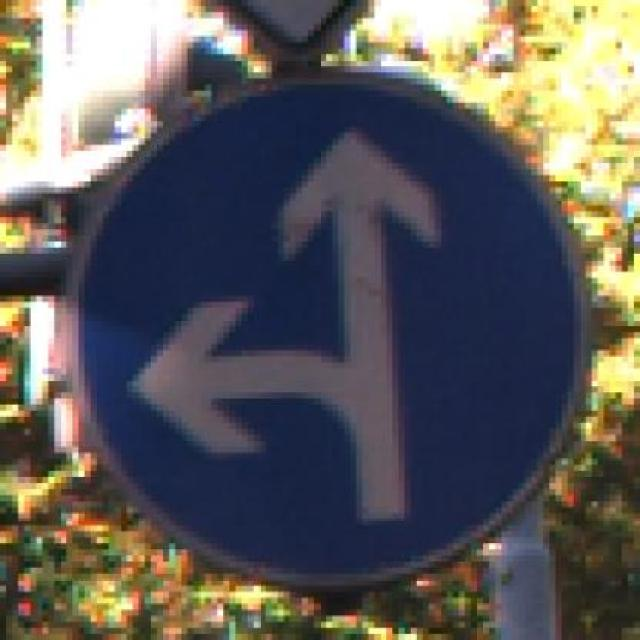Go straight or turn left: (42, 72, 598, 592)
